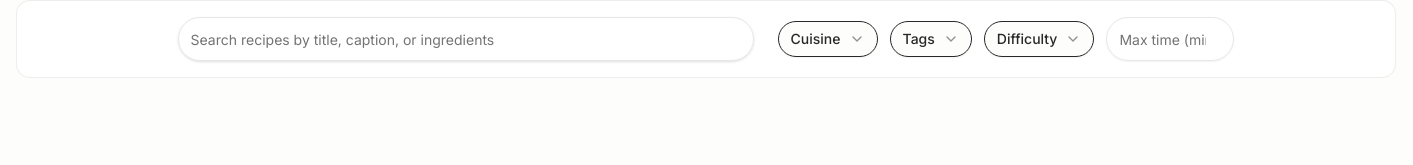
Test case: FilterBar › cuisine filter › should show message when no cuisines available
Click the button with test id "cuisine-filter-trigger".
click(828, 39)  # box [778,21,878,57]
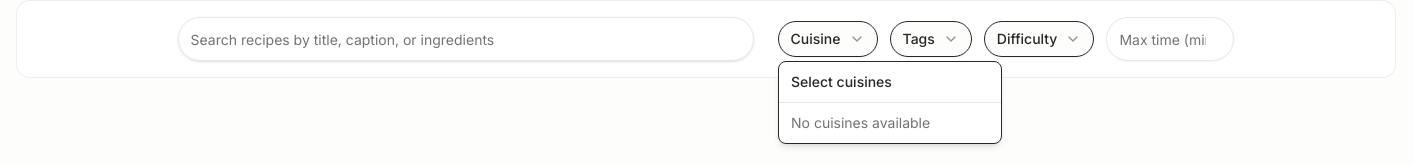
Expected: the text "No cuisines available" is shown, [791,114,930,131]
